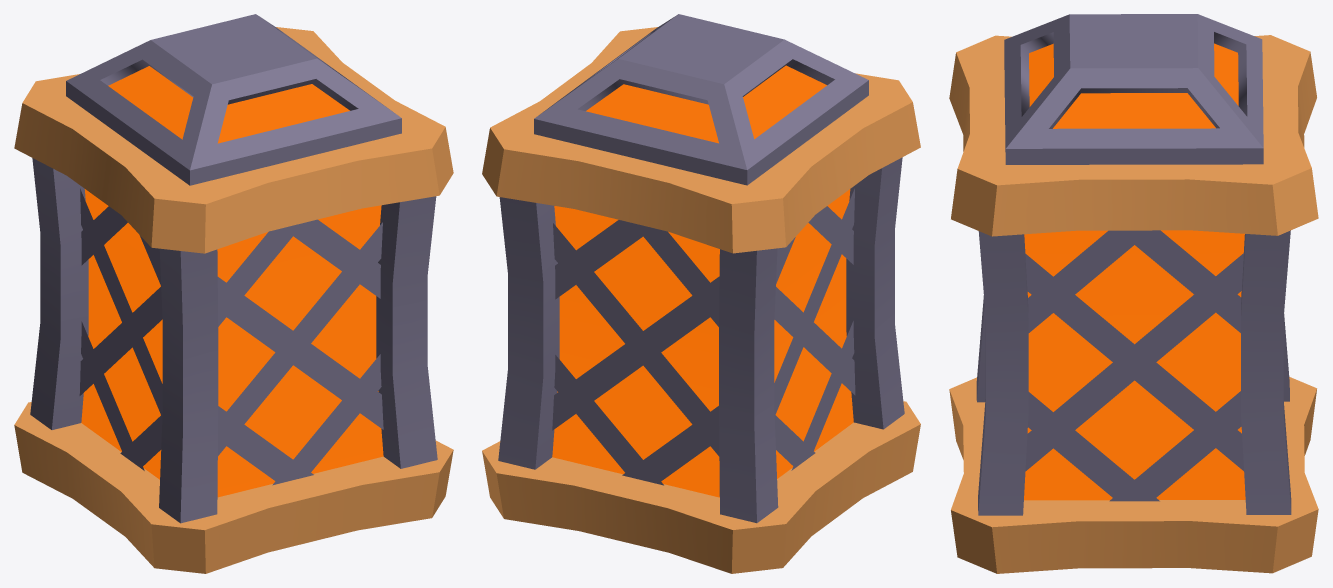
File: lantern.glb
3 views of the same model, side by side, from view 1: azimuth 30°, elevation 25°; view 2: azimuth 150°, elevation 25°; view 3: azimuth 270°, elevation 25° (orthographic). The views are drawn at different scales.
Visible parts, largest first — view 1: base, light; view 2: base, light; view 3: base, light.
Part boxes in pixels (x1=…): base: x1=14, y1=14, x2=453, y2=573; light: x1=81, y1=66, x2=383, y2=497; base: x1=482, y1=14, x2=920, y2=573; light: x1=552, y1=65, x2=853, y2=497; base: x1=949, y1=14, x2=1318, y2=573; light: x1=1024, y1=43, x2=1245, y2=500.
Size of the model in its own units: 0.8965 by 1.23 by 0.8965.
Materials: 2 (1 with a texture image).
